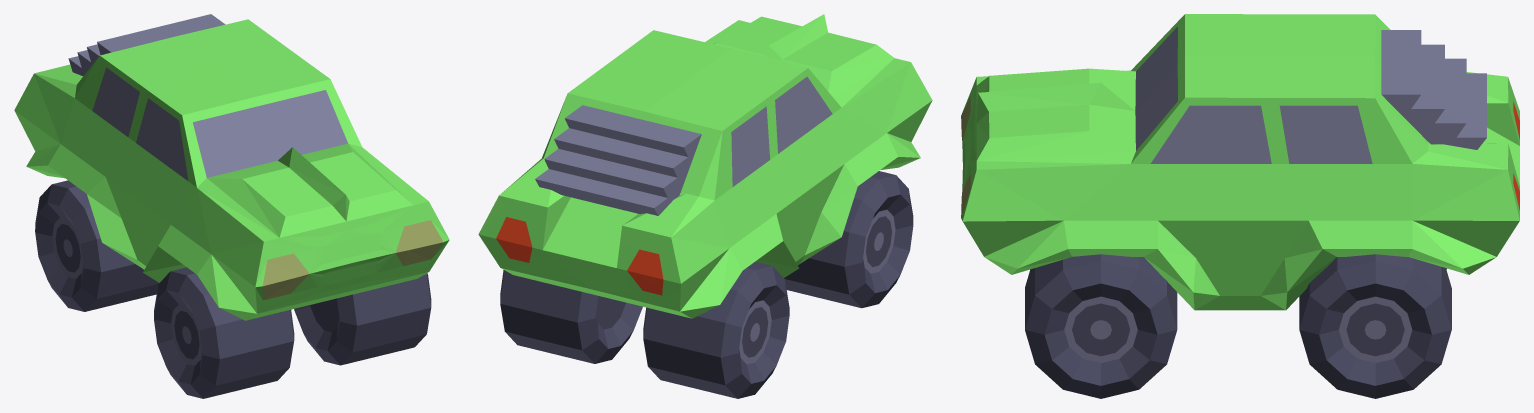
File: Car_GreenLight.fbx
The picture shows the model from 3 angles, left to right: view 1: azimuth 30°, elevation 25°; view 2: azimuth 150°, elevation 25°; view 3: azimuth 270°, elevation 25°; orthographic projection. The views are drawn at different scales.
Parts seen in each view (by area): view 1: Car_GreenLight; view 2: Car_GreenLight; view 3: Car_GreenLight.
Part boxes in pixels (<box>): Car_GreenLight: <box>14,14,449,398</box>; Car_GreenLight: <box>478,14,932,398</box>; Car_GreenLight: <box>961,14,1519,398</box>.
Bounding box in the file's own units: 108 × 111 × 198.
